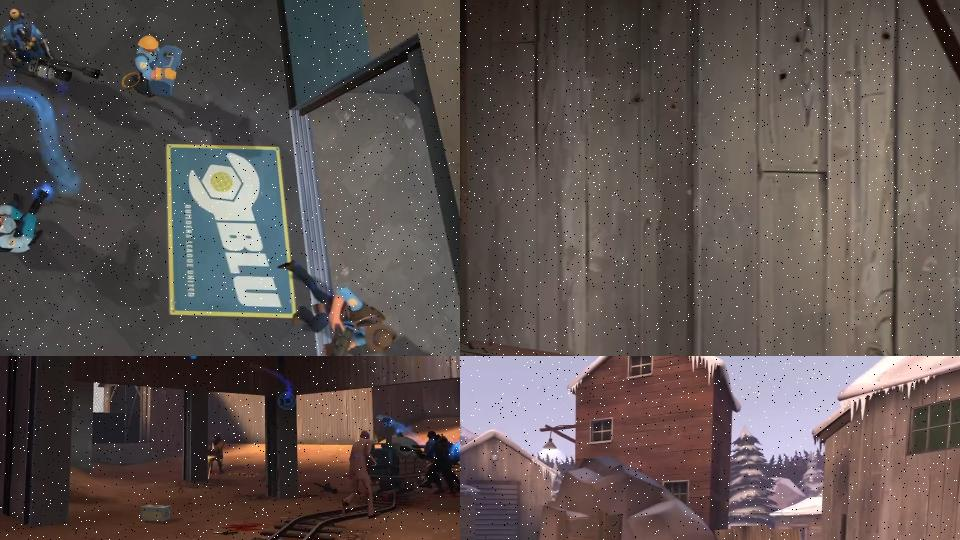Enemy: (271, 252, 399, 356), (0, 2, 102, 95), (124, 30, 190, 109), (0, 181, 54, 261), (400, 433, 459, 493), (342, 430, 380, 519), (412, 430, 460, 491), (208, 431, 225, 474)
